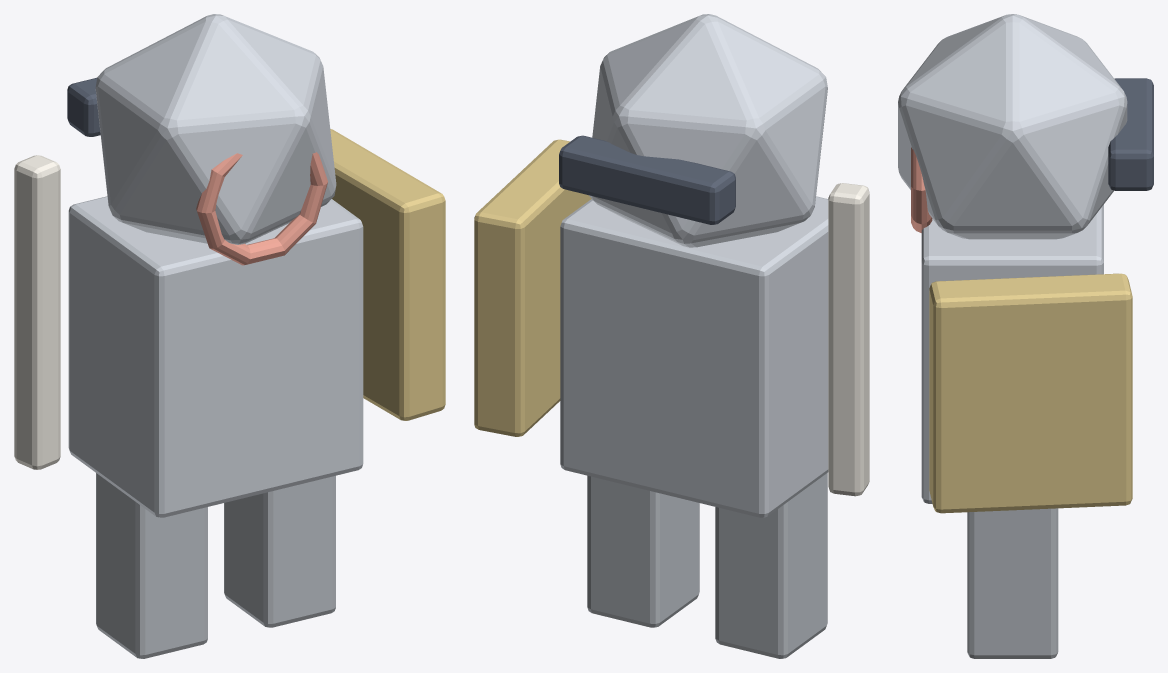
File: knight.glb
3 views of the same model, side by side, from view 1: azimuth 30°, elevation 25°; view 2: azimuth 150°, elevation 25°; view 3: azimuth 270°, elevation 25° (orthographic).
Parts seen in each view (by area): view 1: knight; view 2: knight; view 3: knight.
Part boxes in pixels (x1,y1,x2,y2): knight: (14, 14, 445, 658); knight: (474, 14, 869, 658); knight: (898, 14, 1153, 658).
Bounding box in the file's own units: 0.4624 × 0.7244 × 0.2809.
